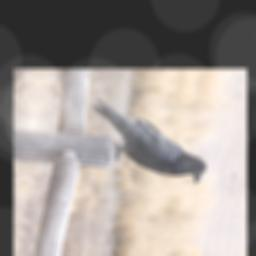Crow: (80, 98, 217, 185)
